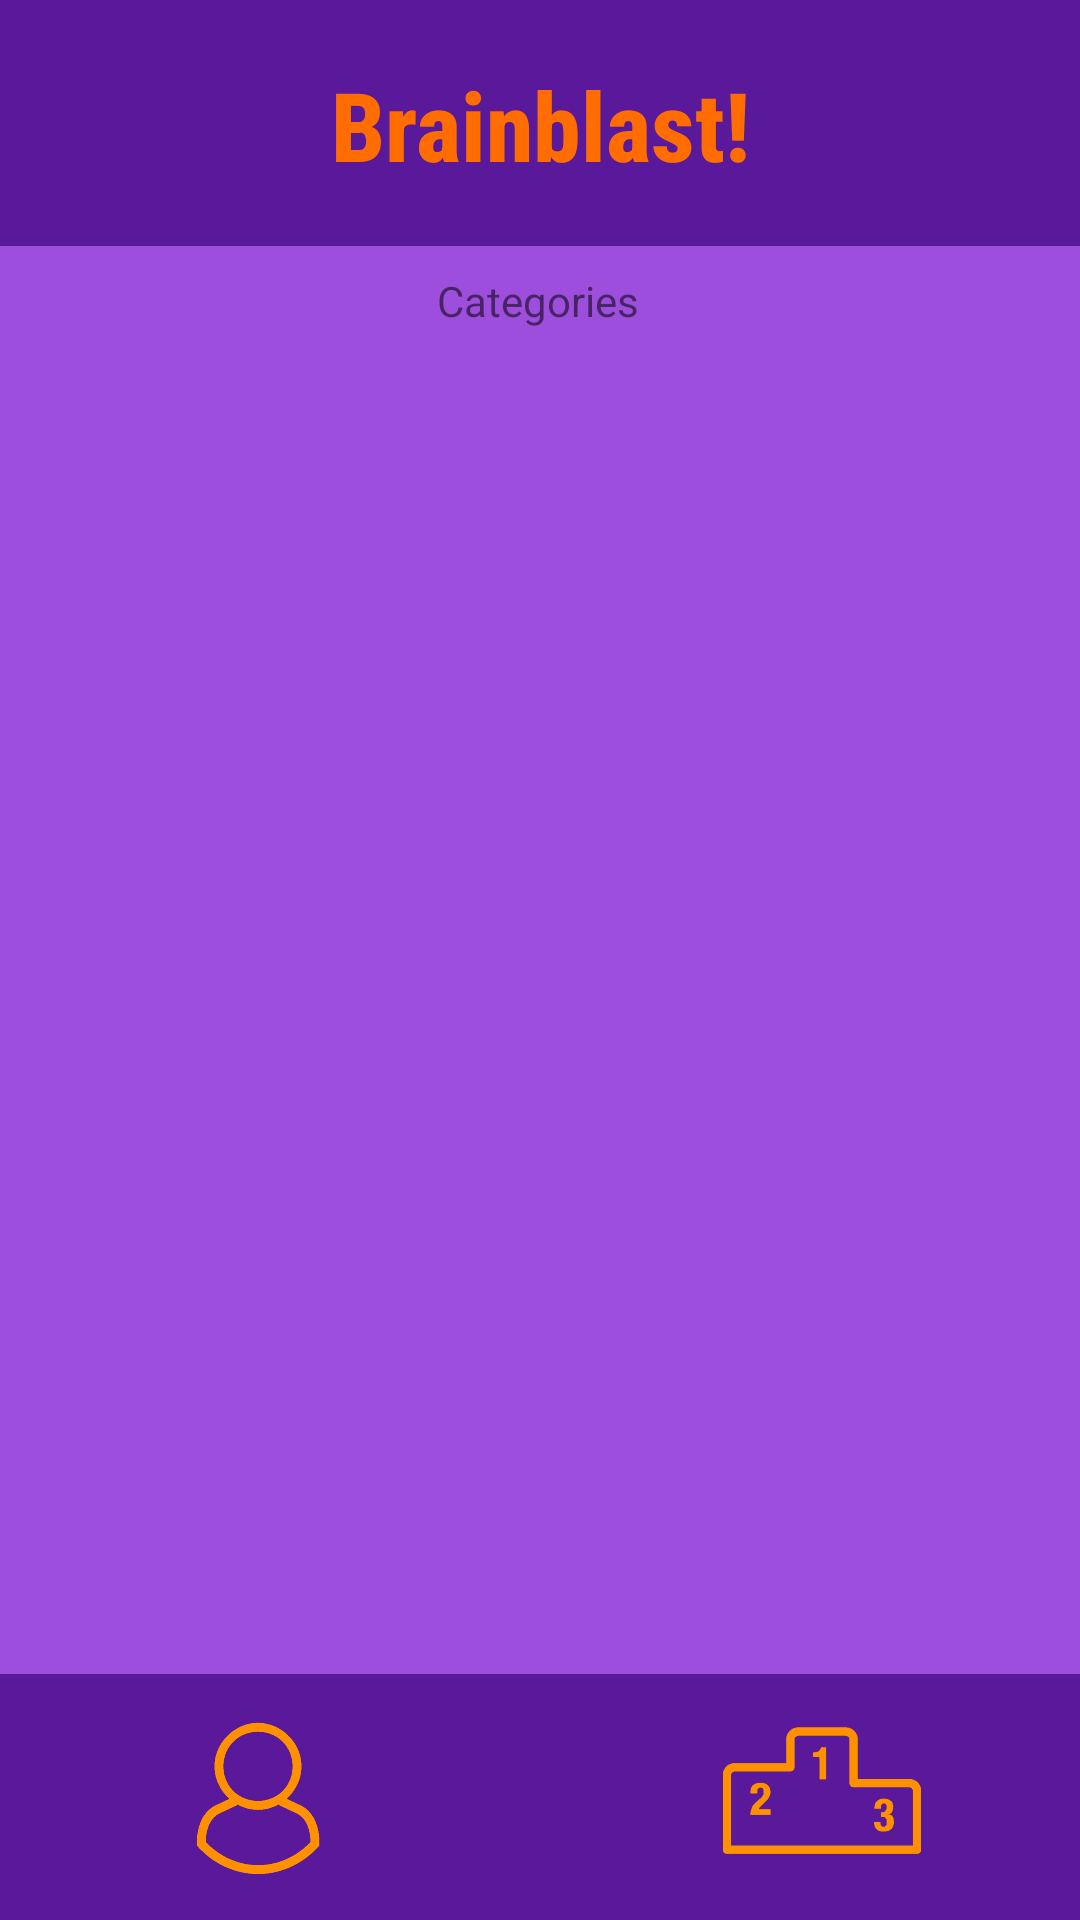

Icon bounding boxes for this 1080 x 1920 phone screenshot, format (x1, y1, x2, y2):
Leaderboard redirect: (723, 1727, 921, 1854)
